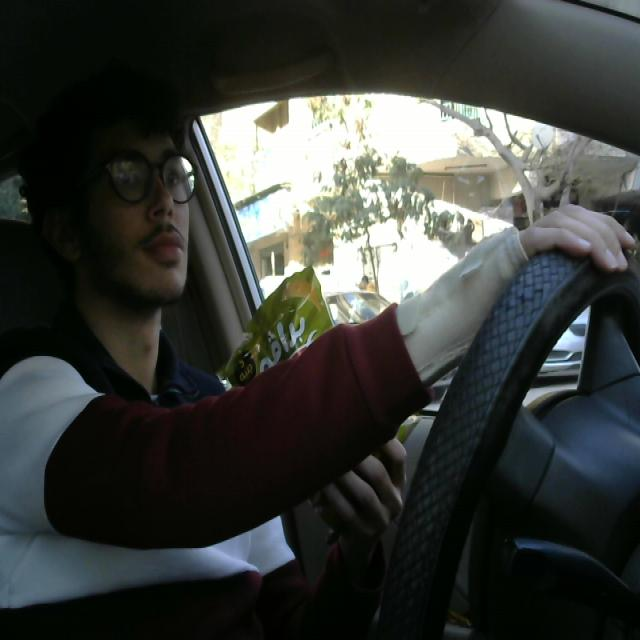eating: (216, 258, 420, 538)
